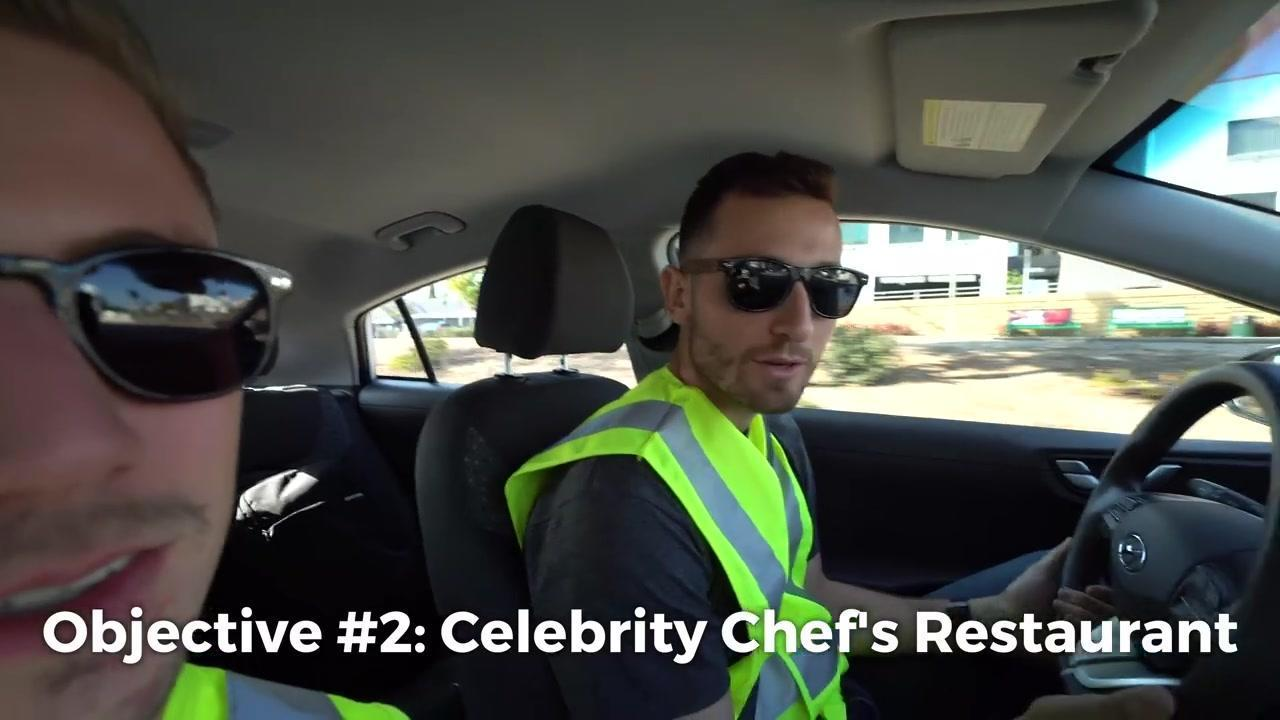vest: (502, 369, 851, 719), (150, 659, 413, 719)
